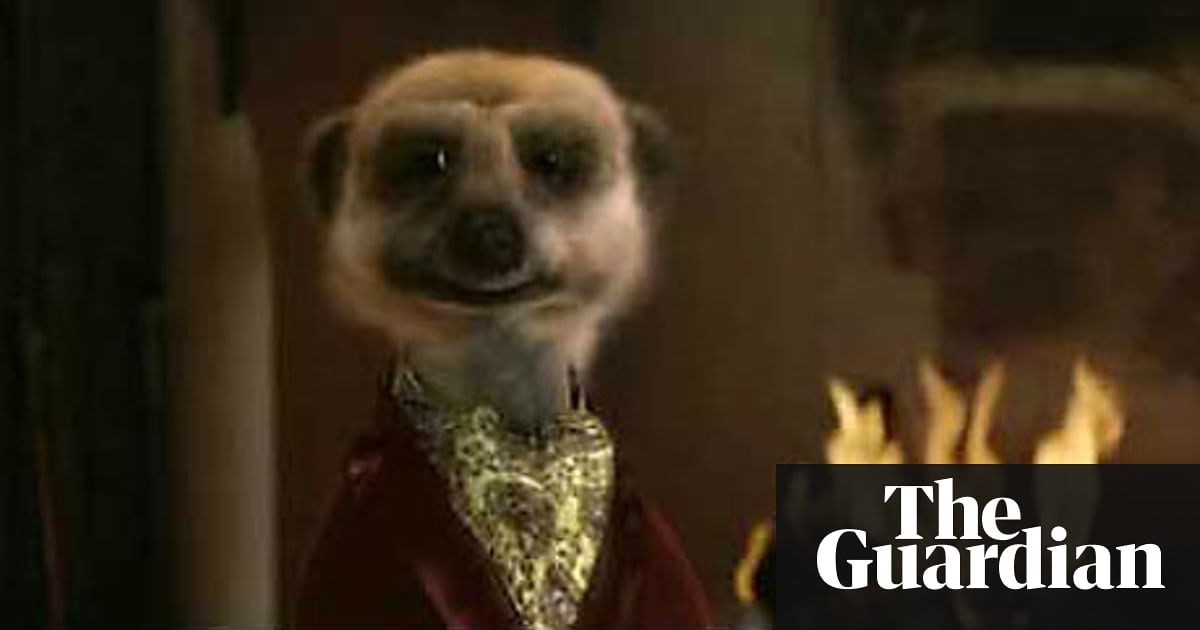meerkat: (246, 37, 704, 630)
